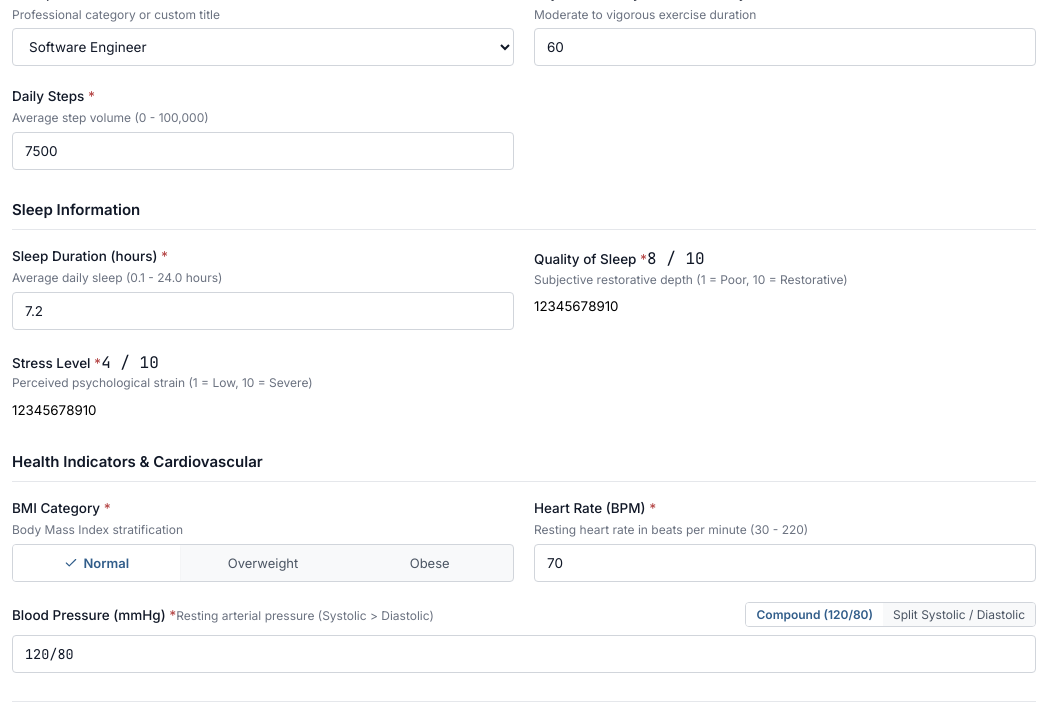
Test: PredictionForm Component Tests › allows toggling between compound BP and split BP modes
(page scrolled)
Click the button "Split Systolic / Diastolic" at (959, 614), box [883,602,1035,626]
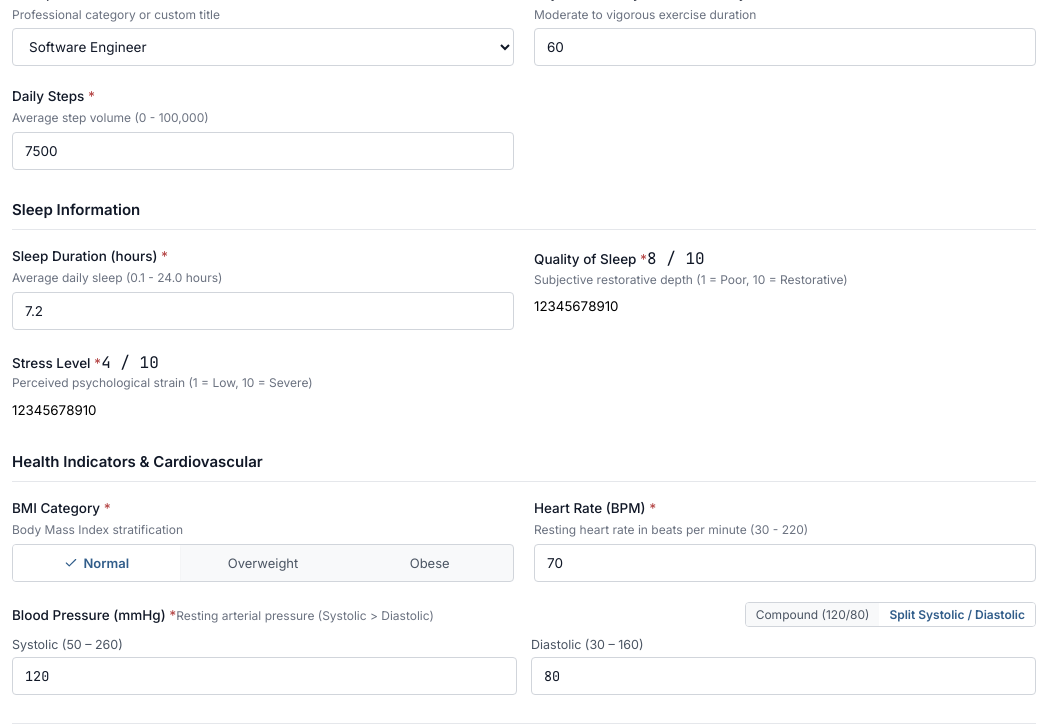
Expected: the number field labelled "Systolic (50 – 260)" is shown, [12,657,517,695]
Expected: the number field labelled "Diastolic (30 – 160)" is shown, [531,657,1036,695]
